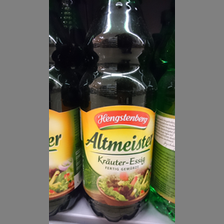vinegar: (81, 1, 153, 222)
